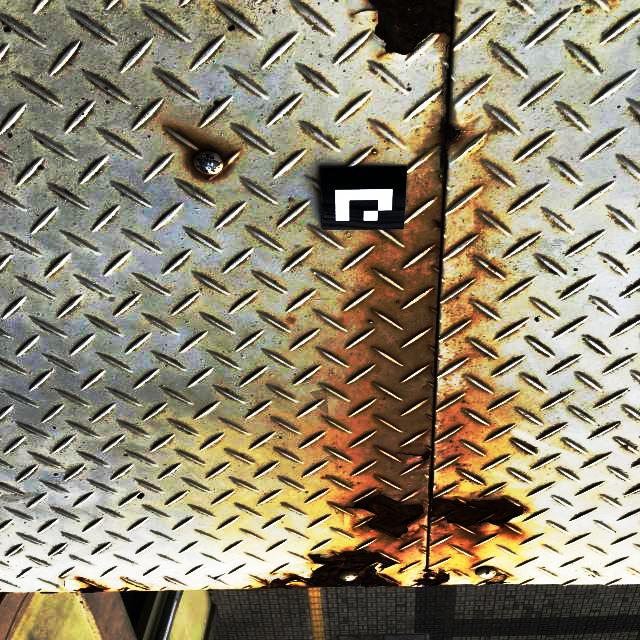Corrosion: (260, 549, 399, 589), (368, 0, 455, 55), (347, 494, 424, 538), (431, 498, 523, 526), (440, 110, 461, 184), (415, 558, 450, 587), (77, 578, 110, 593), (398, 450, 432, 462), (486, 573, 512, 585), (122, 587, 141, 592), (622, 444, 628, 448)
